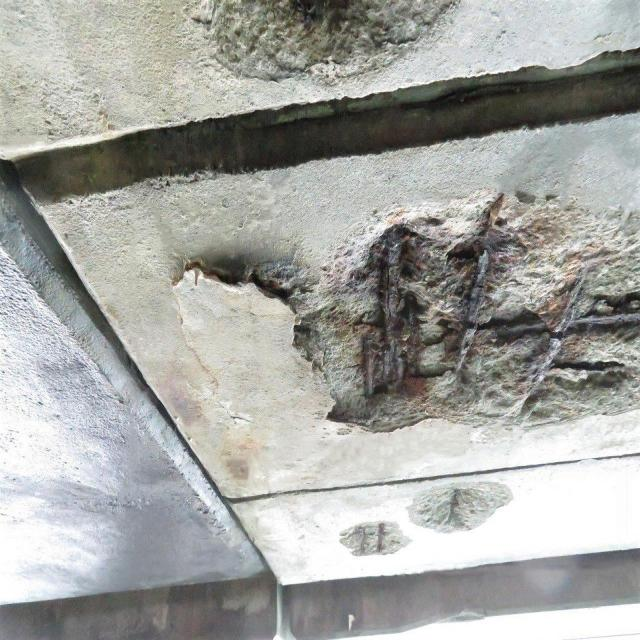Rebar: (292, 197, 640, 431), (406, 478, 514, 534), (338, 518, 412, 556)
concrete spalling: (186, 0, 454, 80)
